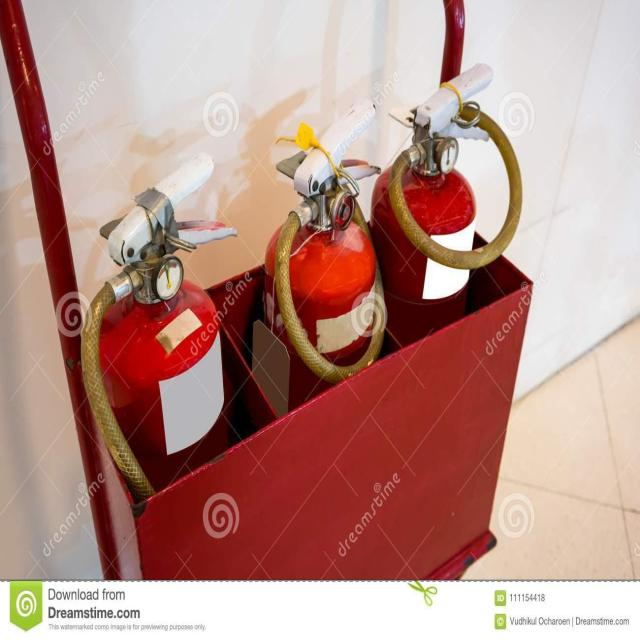fire_extinguisher: (365, 57, 526, 582), (78, 185, 252, 579), (255, 93, 393, 582)
